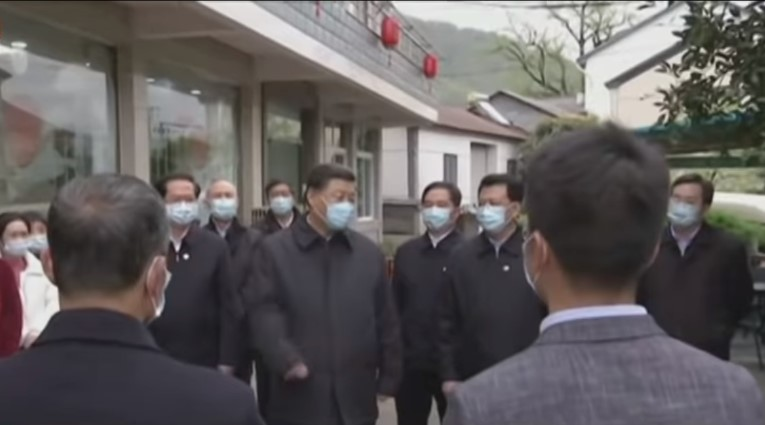face_with_mask: (302, 160, 360, 236), (471, 174, 523, 239), (663, 170, 715, 232), (156, 170, 200, 232), (418, 179, 463, 235), (204, 177, 241, 223), (1, 211, 33, 262), (262, 178, 297, 218)
